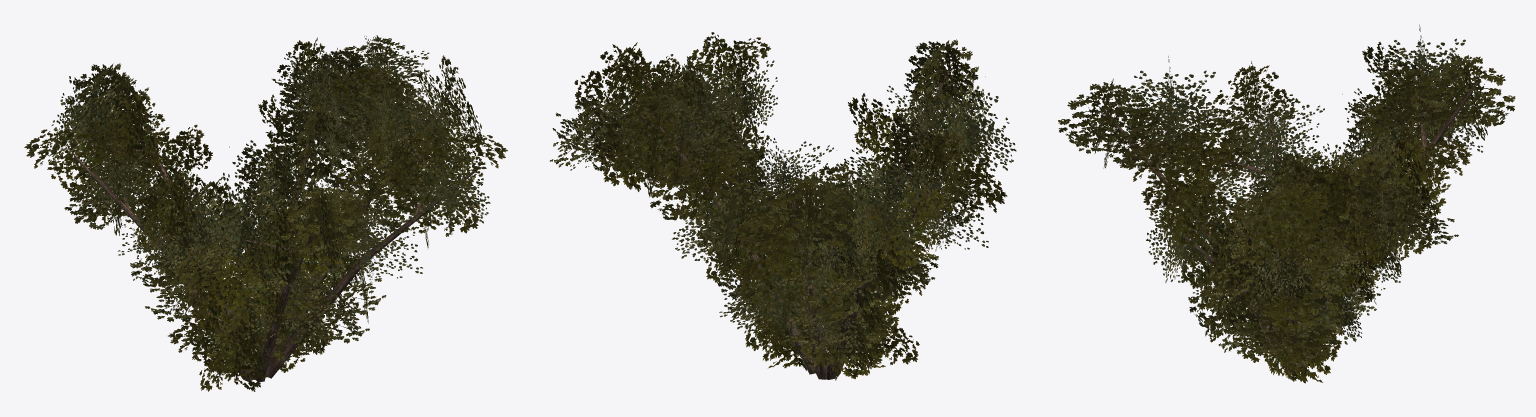
Rendered from bush_3d_06_lod0.glb.
The picture shows the model from 3 angles, left to right: view 1: azimuth 30°, elevation 25°; view 2: azimuth 150°, elevation 25°; view 3: azimuth 270°, elevation 25°; orthographic projection. The views are drawn at different scales.
Parts seen in each view (by area): view 1: foliage_cards, wood_geometry; view 2: foliage_cards, wood_geometry; view 3: foliage_cards, wood_geometry.
Part boxes in pixels (box(x1,y1,x2,y2)): foliage_cards: box(24, 35, 507, 391); wood_geometry: box(75, 58, 477, 382); foliage_cards: box(550, 32, 1016, 380); wood_geometry: box(620, 64, 979, 379); foliage_cards: box(1058, 24, 1515, 383); wood_geometry: box(1101, 81, 1478, 372).
Size of the model in its own units: 3.15 by 1.95 by 2.94.
Materials: 2 (2 with a texture image).
